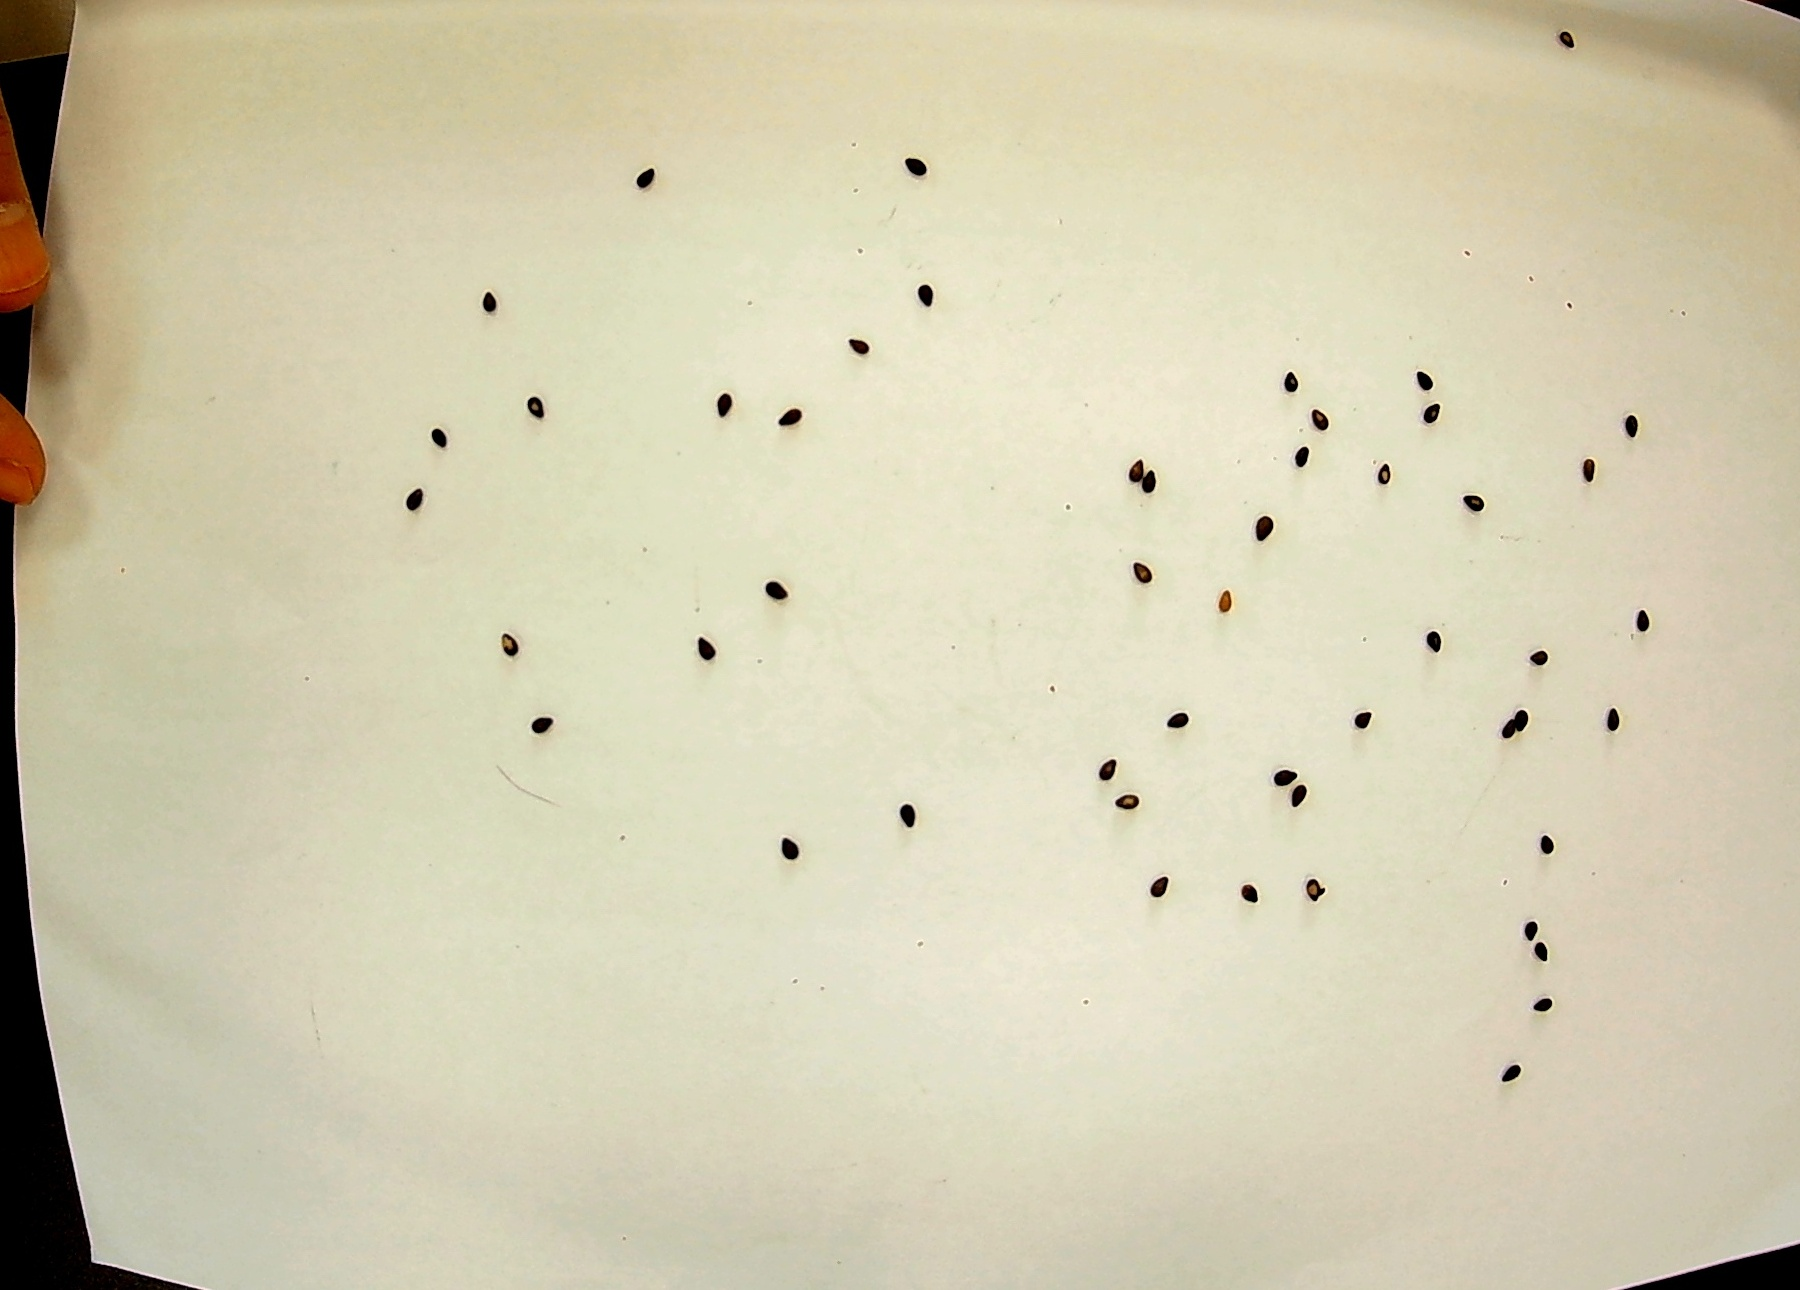sesami: (419, 416, 449, 462), (395, 473, 426, 519), (688, 616, 719, 662), (627, 151, 657, 197), (847, 318, 878, 364), (1118, 443, 1148, 489), (882, 793, 913, 839), (765, 824, 795, 870), (1087, 739, 1118, 785), (1115, 776, 1146, 822), (1141, 857, 1172, 903), (1233, 873, 1264, 919), (1531, 933, 1561, 979), (1527, 984, 1557, 1030), (1496, 1047, 1527, 1093), (1535, 820, 1566, 866), (1487, 701, 1518, 747), (1273, 754, 1303, 800), (1164, 692, 1194, 739), (1422, 616, 1453, 662), (1207, 572, 1238, 618), (1574, 443, 1605, 489), (1614, 403, 1645, 450), (1408, 362, 1439, 408), (1277, 360, 1307, 406), (760, 563, 791, 607), (1460, 482, 1490, 526), (520, 381, 550, 427), (495, 611, 525, 658), (526, 699, 555, 746), (774, 391, 804, 437), (703, 380, 733, 426), (897, 142, 927, 188), (1146, 457, 1175, 503), (1132, 539, 1161, 585), (1298, 866, 1327, 912), (1513, 899, 1542, 945), (1592, 697, 1621, 743), (1635, 591, 1665, 637), (1527, 634, 1556, 680), (1515, 687, 1545, 733), (1293, 778, 1323, 824), (1353, 691, 1383, 737), (1246, 511, 1275, 557), (1370, 451, 1400, 497), (1416, 392, 1446, 438), (1292, 431, 1321, 477), (1554, 18, 1584, 64), (477, 274, 507, 318), (911, 267, 940, 311), (1303, 401, 1333, 445)
